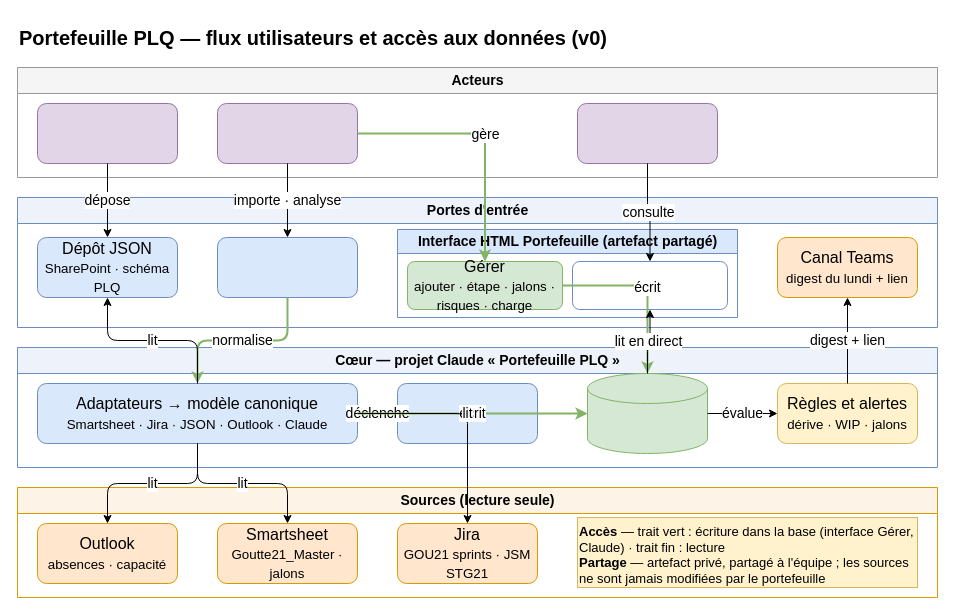
Some shapes in this 955 by 615 pixel diagram are drawn without their labels. Each missing label, with the centre of its shape:
Architecte hors sprint: point 107,133
Base portefeuille base de l'artefact: point 647,413
Conversation Claude imports · analyses · scénarios: point 287,267
Franck gestionnaire de programme: point 287,133
Tâche planifiée lundi 7 h: point 467,413
Voir 3 mois · sprints · charge · risques: point 650,285
Équipe licence Claude · lecture: point 647,133
